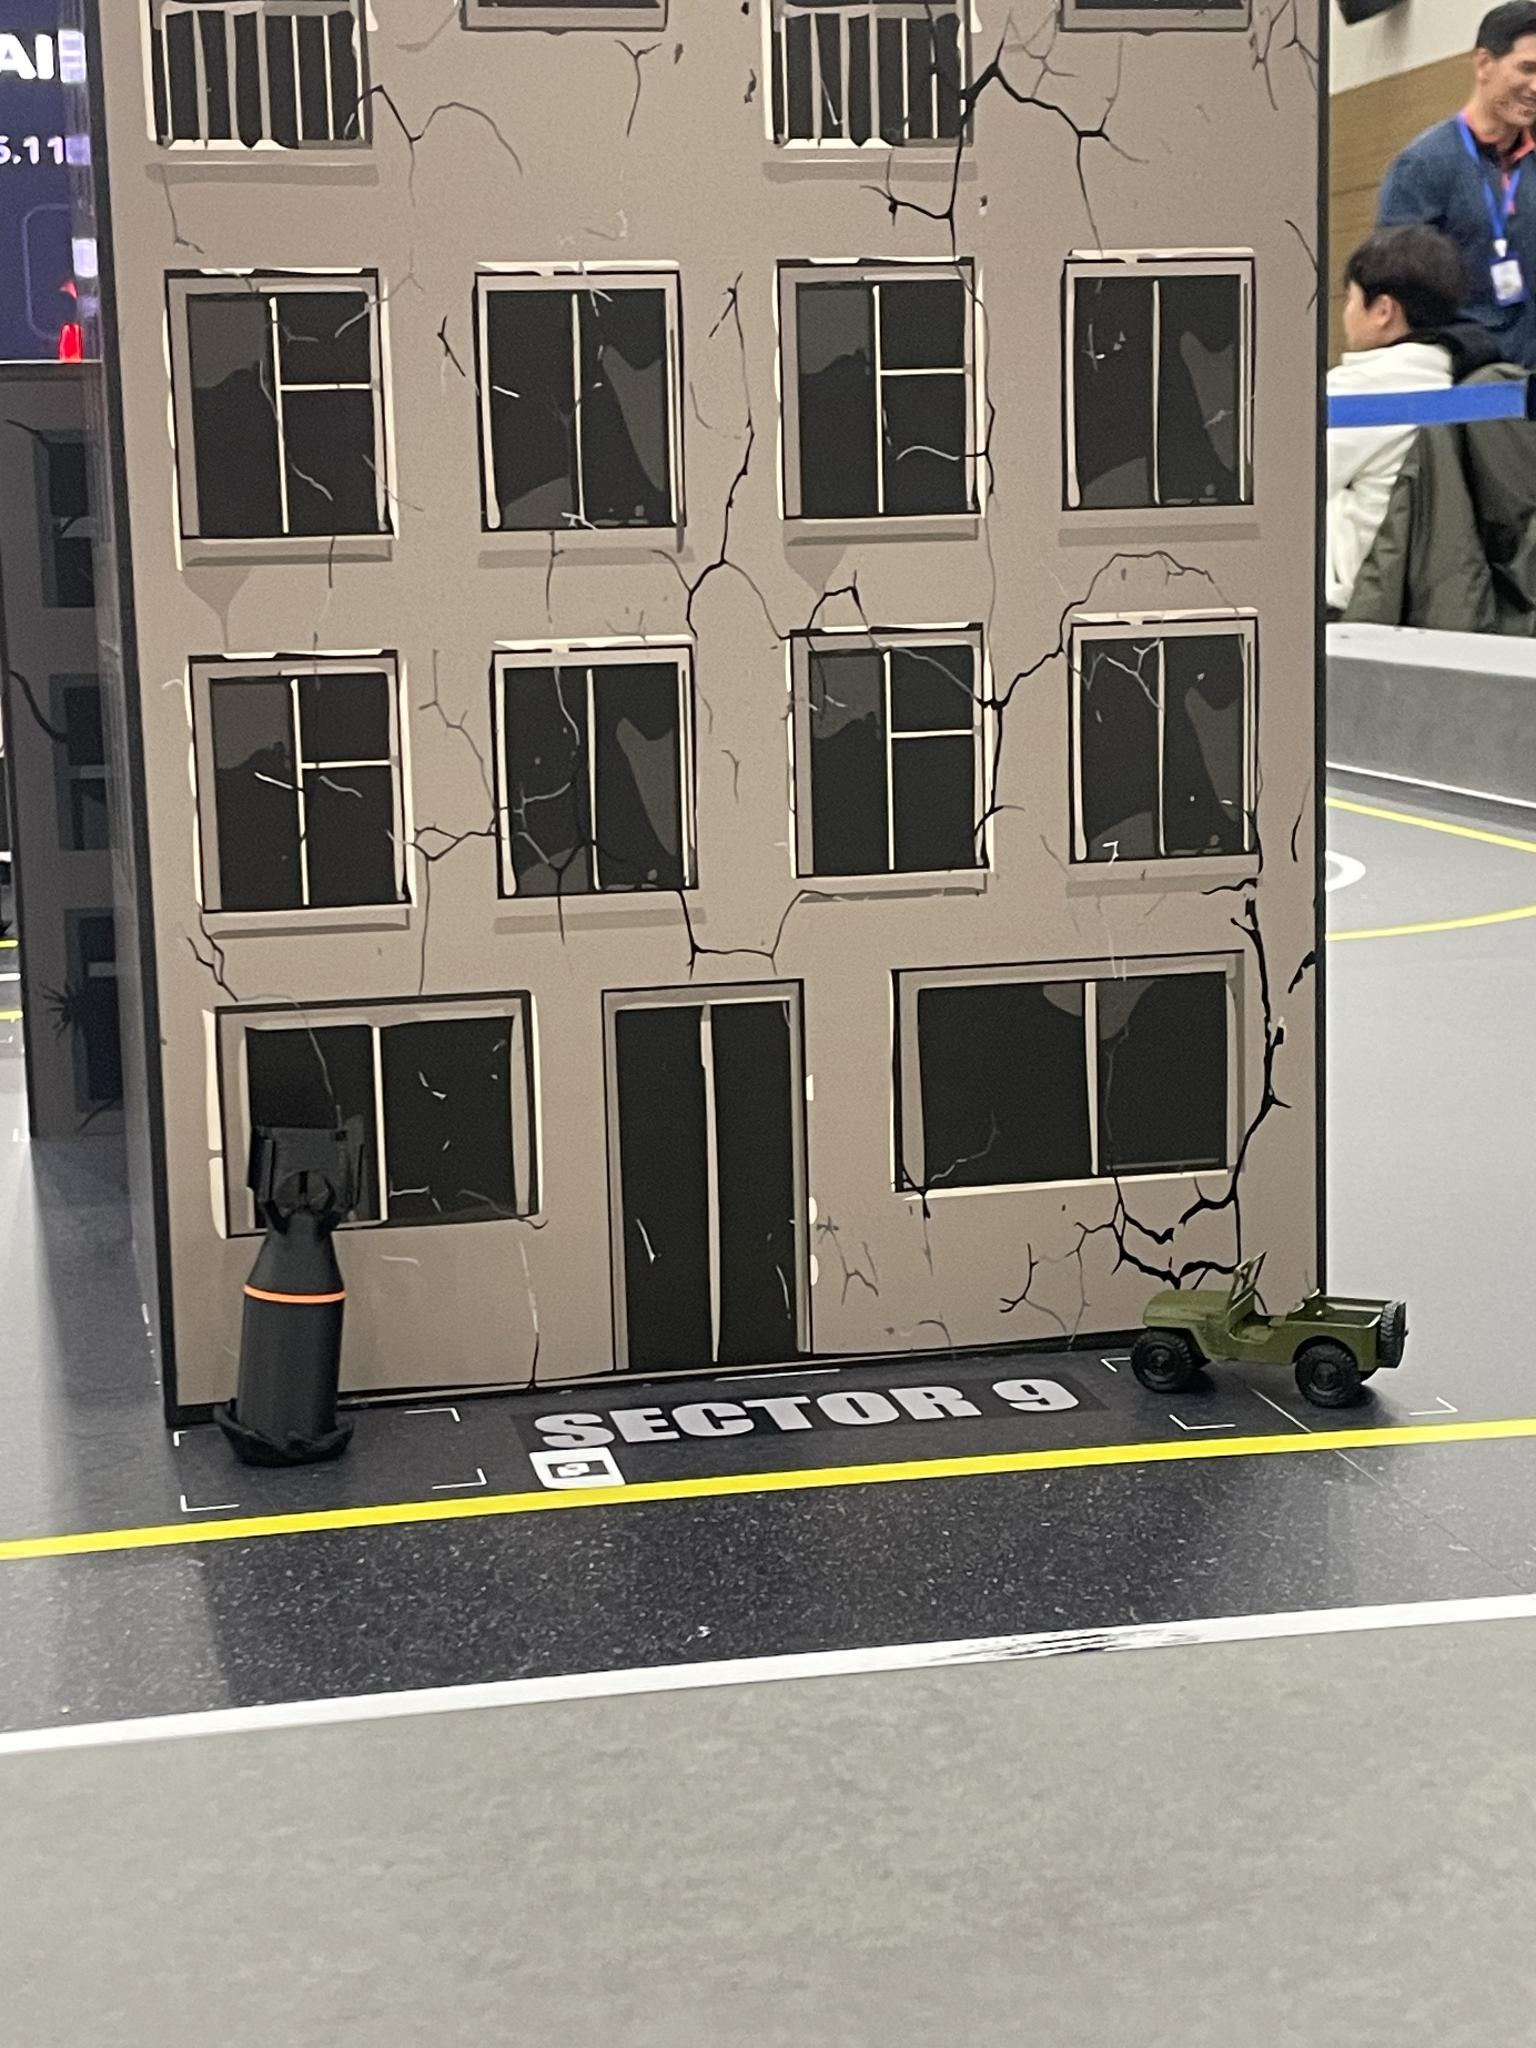Car: (1123, 1255, 1425, 1405)
Missile: (221, 1118, 373, 1479)
